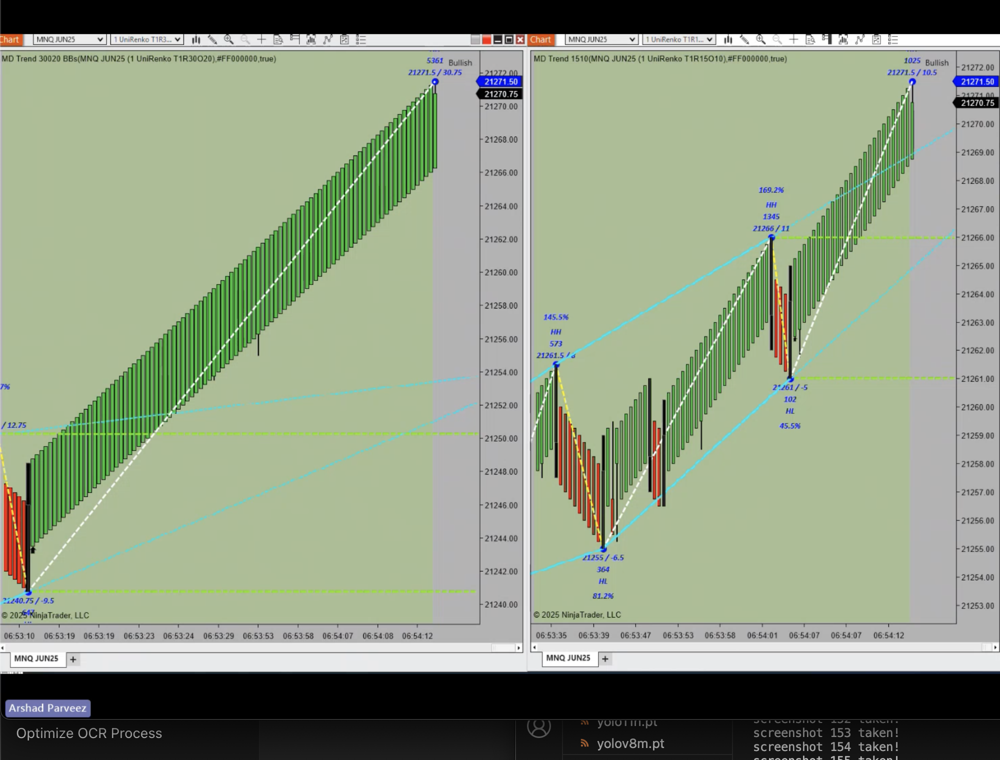HH: (760, 196, 790, 216), (548, 323, 568, 340)
HL: (591, 571, 619, 592), (781, 402, 806, 423)
